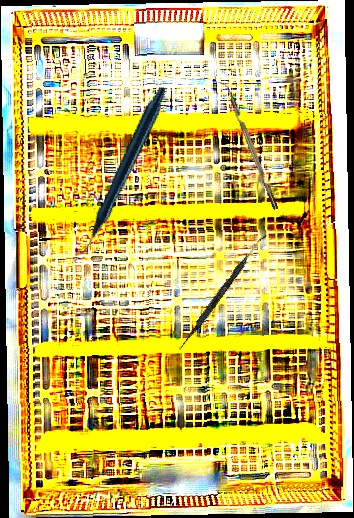Chopper: (217, 78, 279, 213)
Handpiece: (22, 85, 216, 259)
Spatula Surgical: (177, 230, 267, 354)
